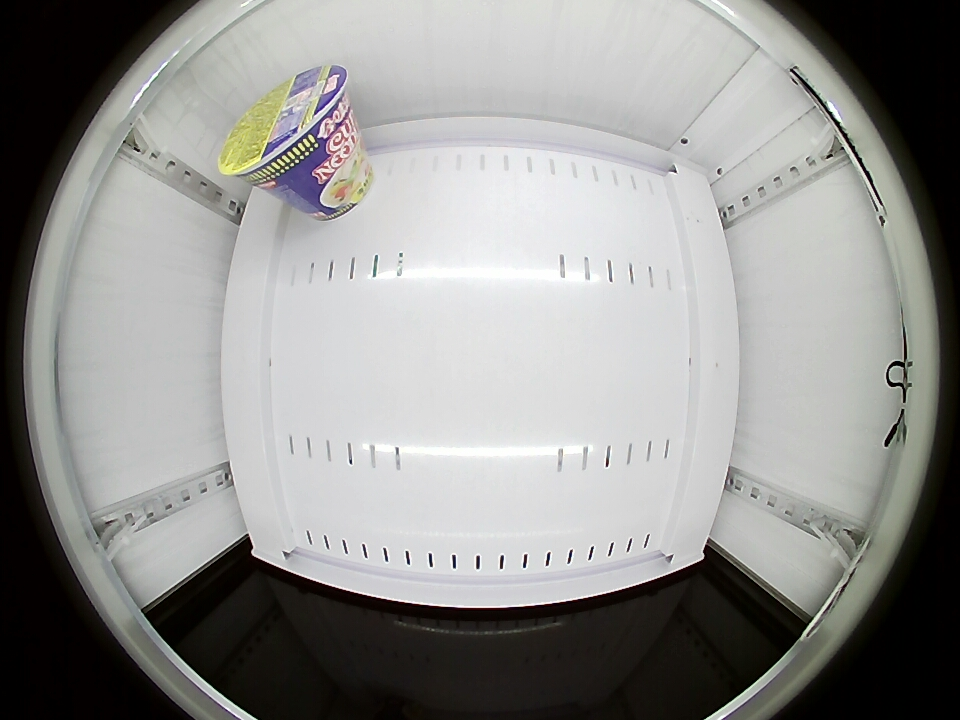heweidao: (219, 65, 351, 187)
